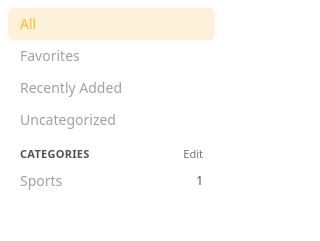
Scenario: CategorySidebar edit mode › hides hidden categories in normal mode but shows them in edit mode
The image size is (320, 241).
Expected: the text "Sports" is shown, x1=20 y1=170 x2=62 y2=190
Expected: the text "Anime" is not shown
Click the button "Edit".
click(193, 154)  # box x1=175 y1=144 x2=211 y2=164
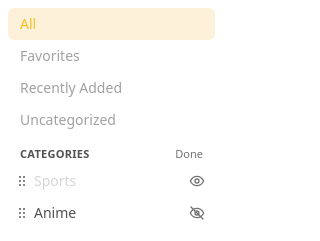
Expected: the text "Anime" is shown, x1=34 y1=202 x2=76 y2=222
Expected: the button named "Show Anime" is shown, x1=185 y1=200 x2=209 y2=224
Expected: the button named "Hide Sports" is shown, x1=185 y1=168 x2=209 y2=192
